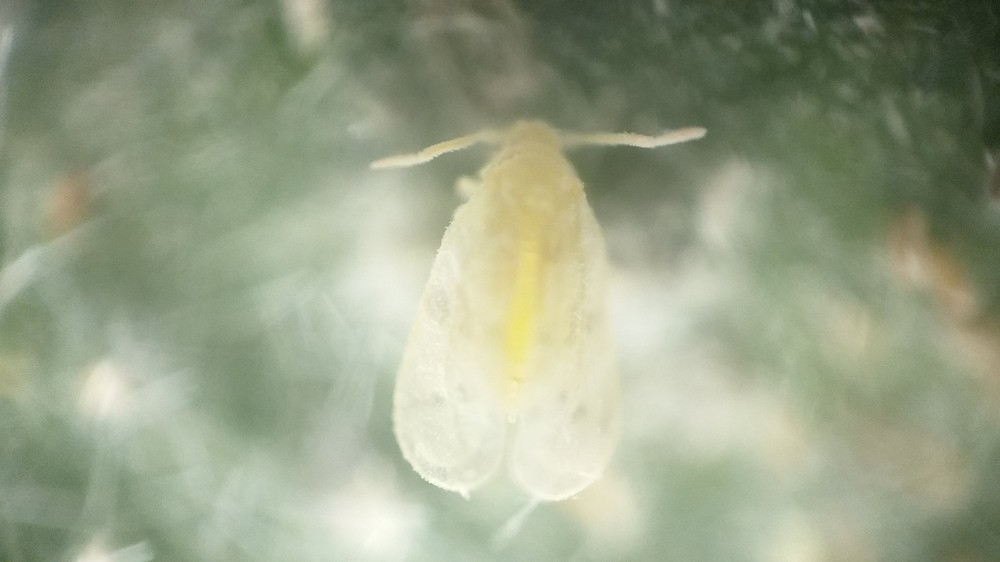Mosca Blanca: (364, 101, 724, 513)
